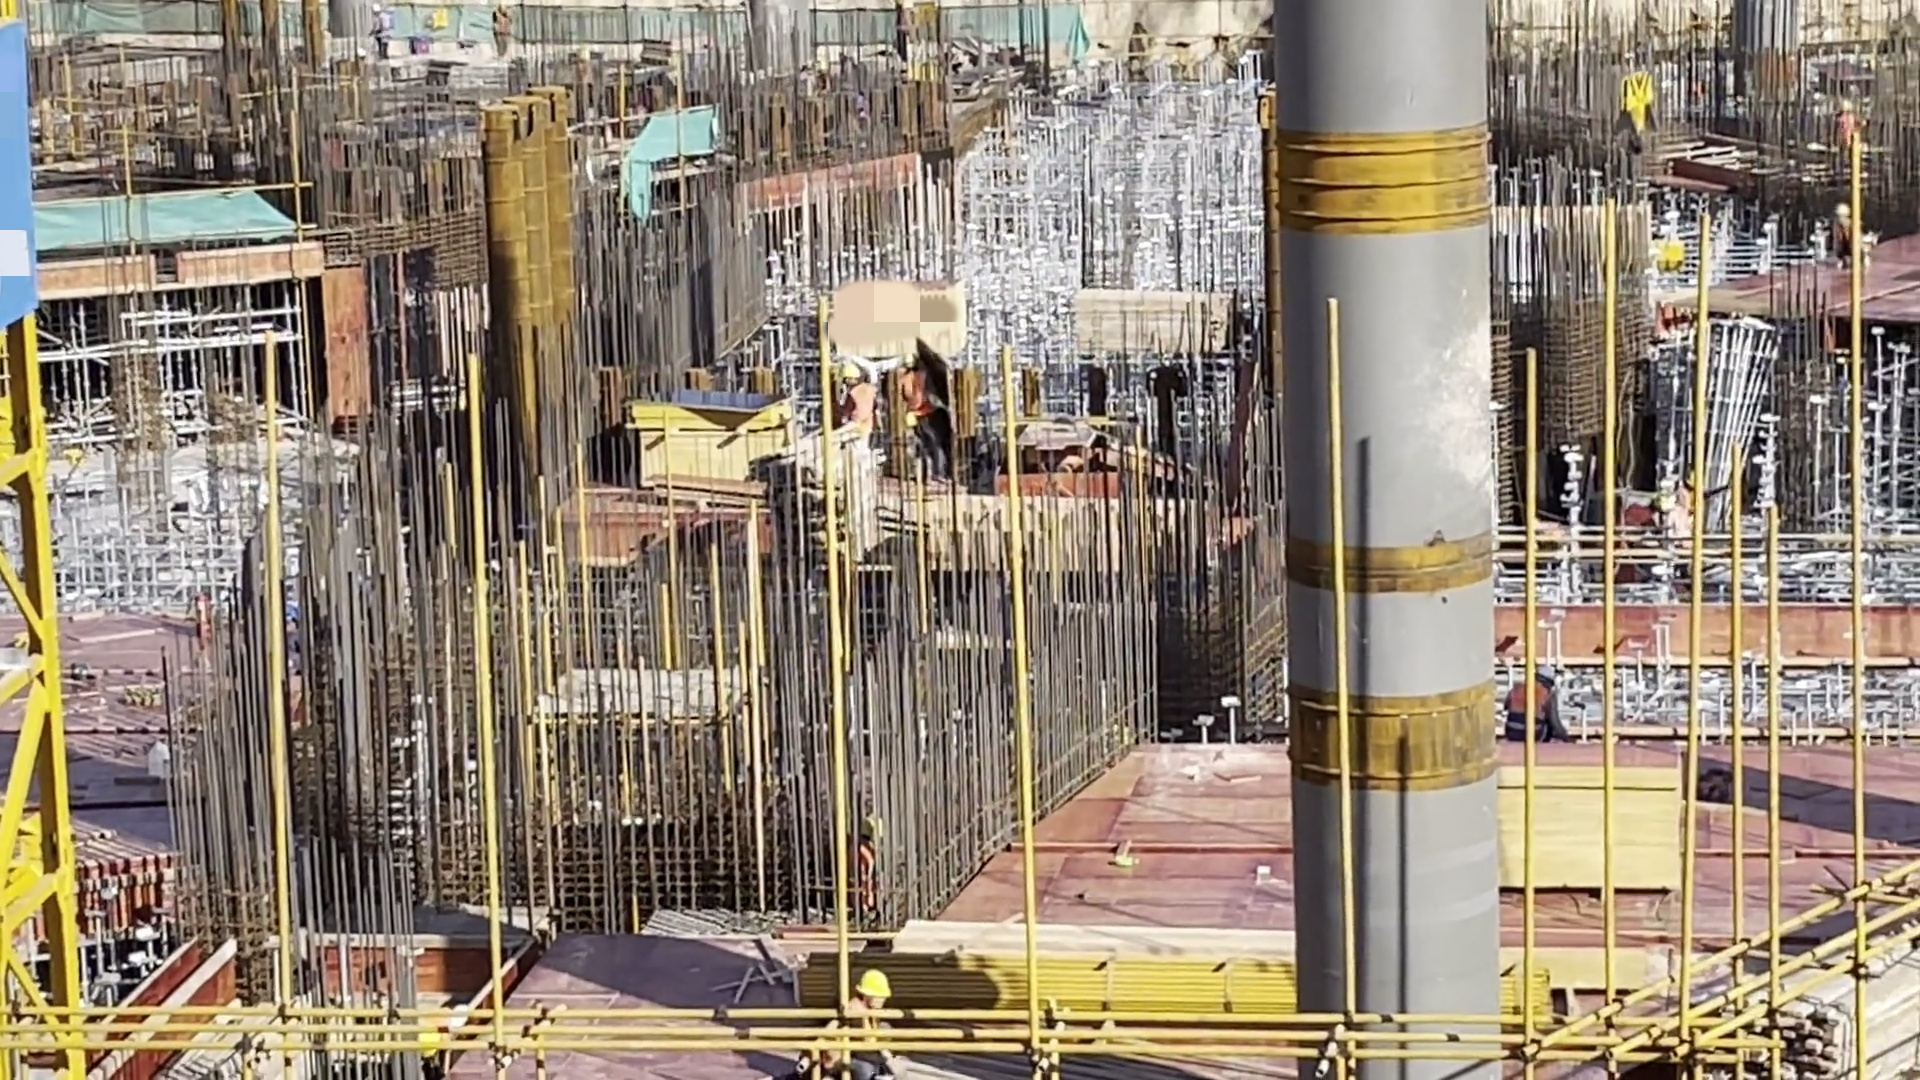board: (1494, 752, 1674, 901), (1073, 291, 1236, 359)
helmet: (853, 812, 886, 842), (863, 972, 893, 1001), (1619, 489, 1654, 506), (850, 360, 875, 381), (1684, 474, 1706, 494), (1542, 661, 1561, 685), (902, 355, 921, 372), (1832, 203, 1849, 221), (1662, 495, 1678, 511), (1840, 97, 1853, 112), (370, 2, 385, 15), (497, 1, 507, 9)
hook: (1599, 66, 1654, 154)
person: (813, 961, 902, 1080), (843, 805, 898, 930), (1513, 673, 1583, 755), (905, 350, 941, 446), (1829, 198, 1883, 263), (845, 356, 876, 439), (1831, 100, 1863, 173), (1659, 496, 1695, 551), (366, 1, 401, 55), (1618, 493, 1655, 539), (488, 1, 517, 55), (1681, 470, 1702, 508)
vest: (826, 1007, 878, 1064), (1510, 684, 1562, 727), (906, 369, 941, 424), (849, 847, 883, 896), (848, 382, 883, 422), (1671, 514, 1699, 553), (1834, 218, 1860, 254), (1839, 115, 1857, 153), (1626, 513, 1645, 544), (375, 15, 392, 38), (498, 13, 512, 40), (1678, 494, 1694, 508)
wood: (779, 454, 893, 554)
